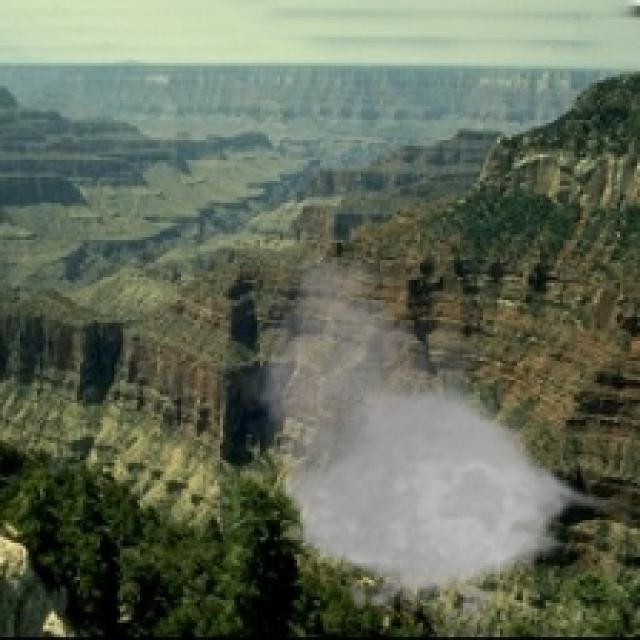smoke: (240, 249, 623, 637)
